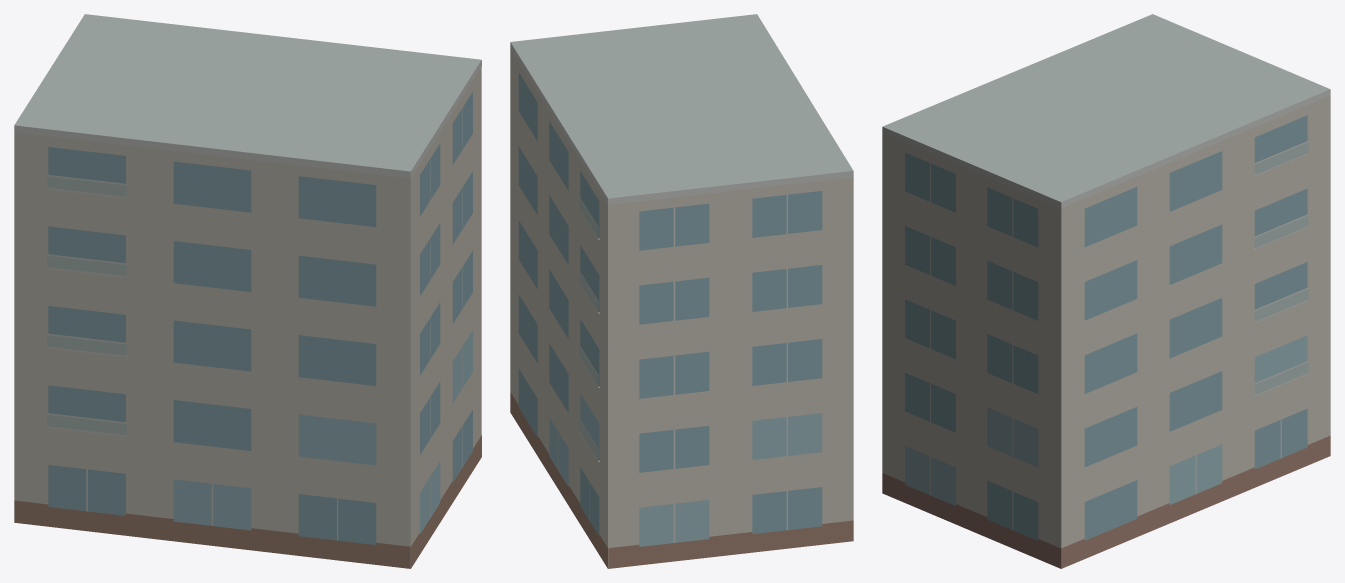
The model's file is survey-upis-32702497.glb.
3 renders of one model, left to right at view 1: azimuth 30°, elevation 25°; view 2: azimuth 150°, elevation 25°; view 3: azimuth 270°, elevation 25°, orthographic. The views are drawn at different scales.
Parts seen in each view (by area): view 1: survey-upis-32702497.tmp; view 2: survey-upis-32702497.tmp; view 3: survey-upis-32702497.tmp.
Part boxes in pixels (x1,y1,x2,y2): survey-upis-32702497.tmp: (14, 14, 481, 568); survey-upis-32702497.tmp: (510, 14, 853, 568); survey-upis-32702497.tmp: (882, 14, 1330, 568).
Bounding box in the file's own units: 15.53 × 14.1 × 15.63.
